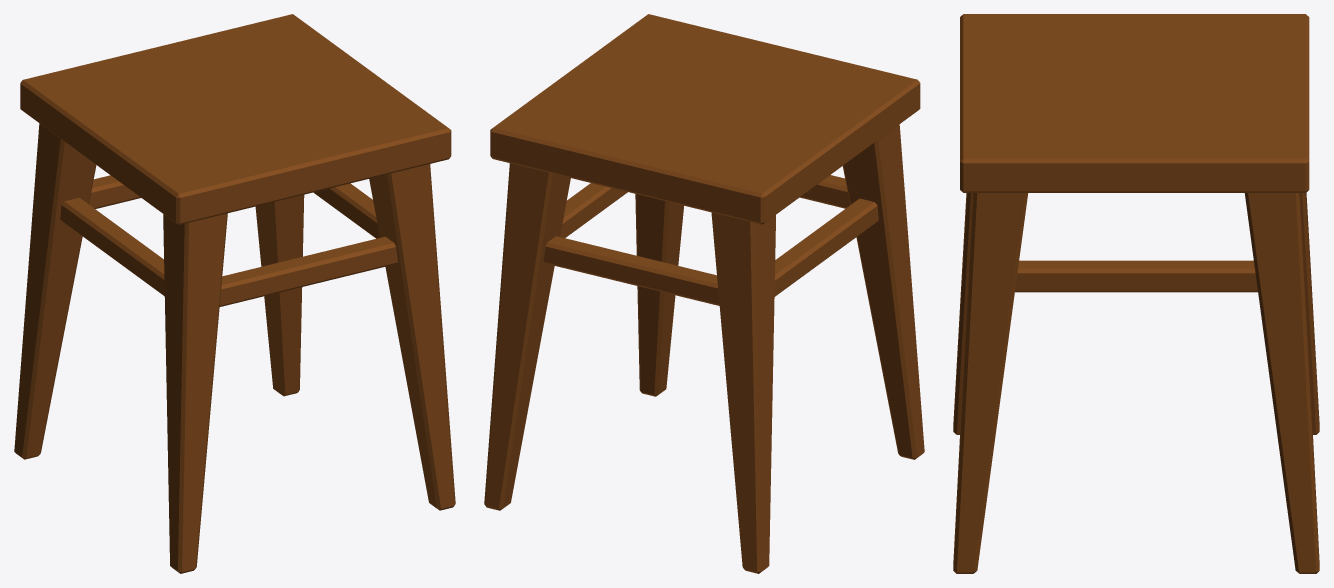
Rendered from Stool.fbx.
3 views of the same model, side by side, from view 1: azimuth 30°, elevation 25°; view 2: azimuth 150°, elevation 25°; view 3: azimuth 270°, elevation 25° (orthographic). The views are drawn at different scales.
Visible parts, largest first — view 1: Stool; view 2: Stool; view 3: Stool.
Part boxes in pixels (x1=…): Stool: x1=14, y1=14, x2=455, y2=573; Stool: x1=484, y1=14, x2=924, y2=573; Stool: x1=953, y1=14, x2=1319, y2=573.
Bounding box in the file's own units: 50.27 × 65.25 × 52.26.
